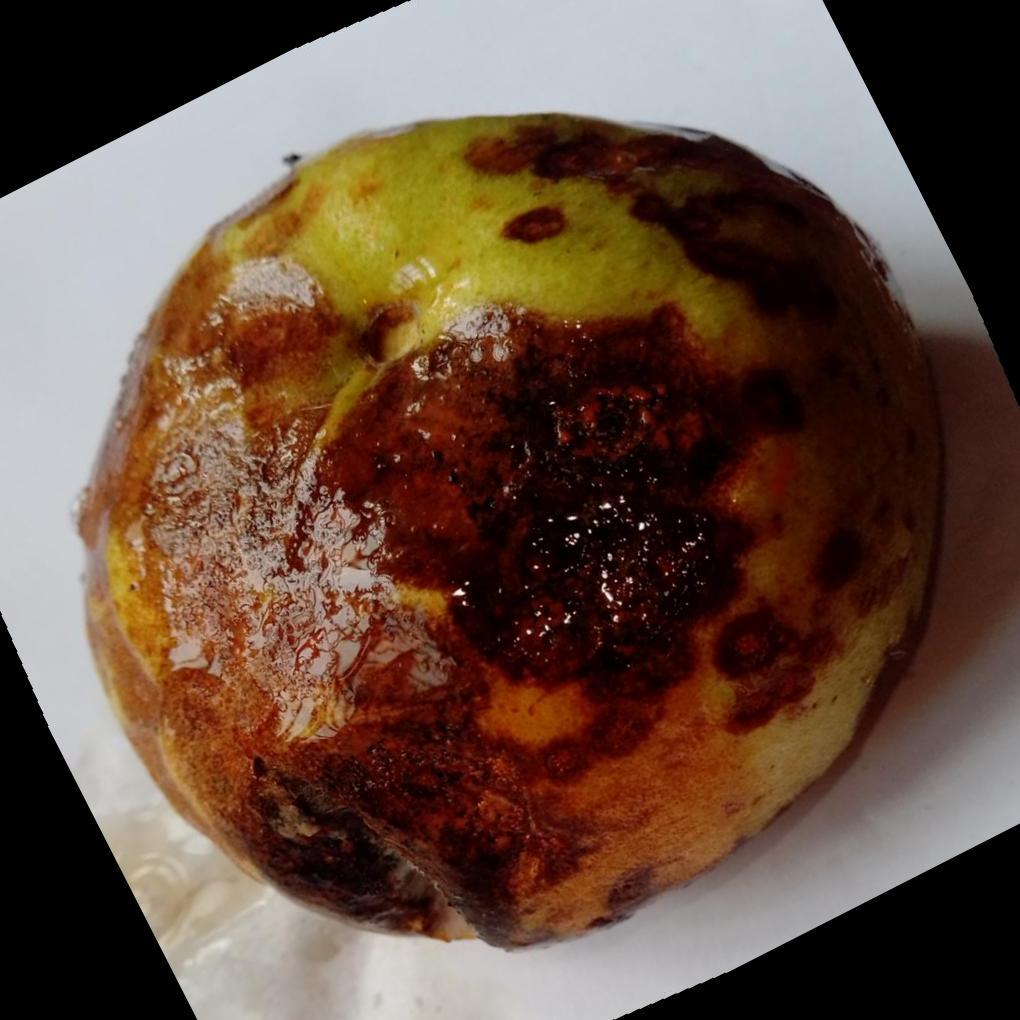FreshOrange: (75, 112, 948, 955)
